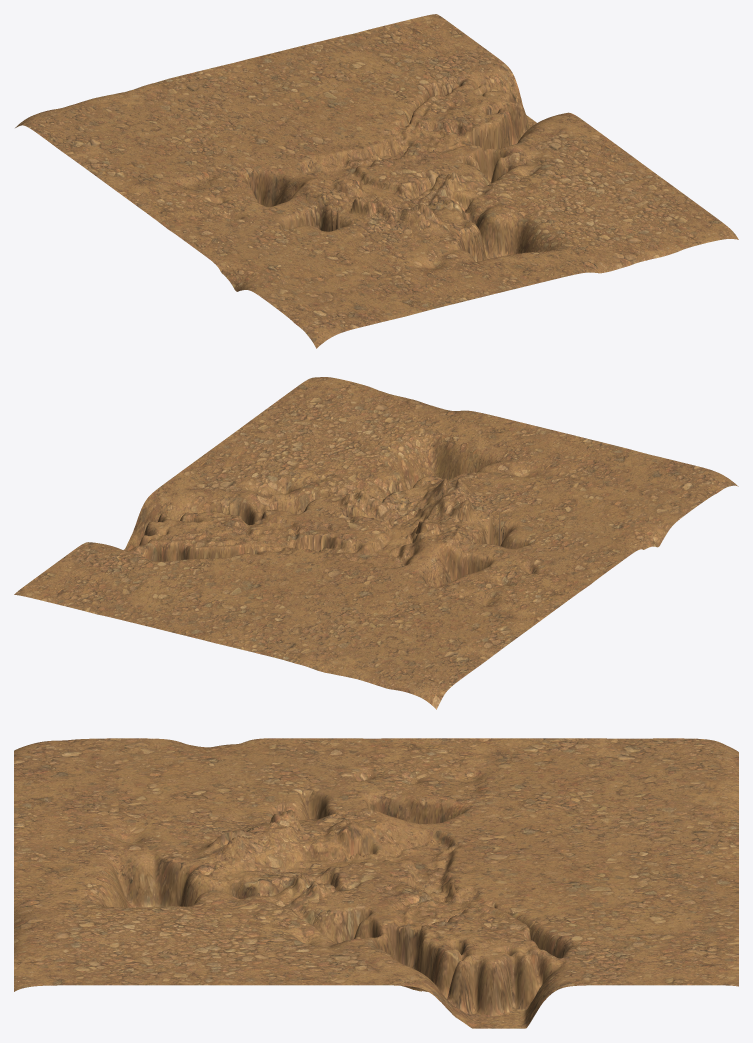
The model's file is Map_GrandYork_HeightMapMesh.fbx.
The picture shows the model from 3 angles, top to bottom: view 1: azimuth 30°, elevation 25°; view 2: azimuth 150°, elevation 25°; view 3: azimuth 270°, elevation 25°; orthographic projection. The views are drawn at different scales.
Parts seen in each view (by area): view 1: 격자.001; view 2: 격자.001; view 3: 격자.001.
Boxes of the visible parts, x1,y1,x2,y2 form: 격자.001: (15,14,738,348); 격자.001: (14,377,738,709); 격자.001: (14,738,738,1028).
Bounding box in the file's own units: 42604 × 5246 × 52810.
Materials: 1 (1 with a texture image).
